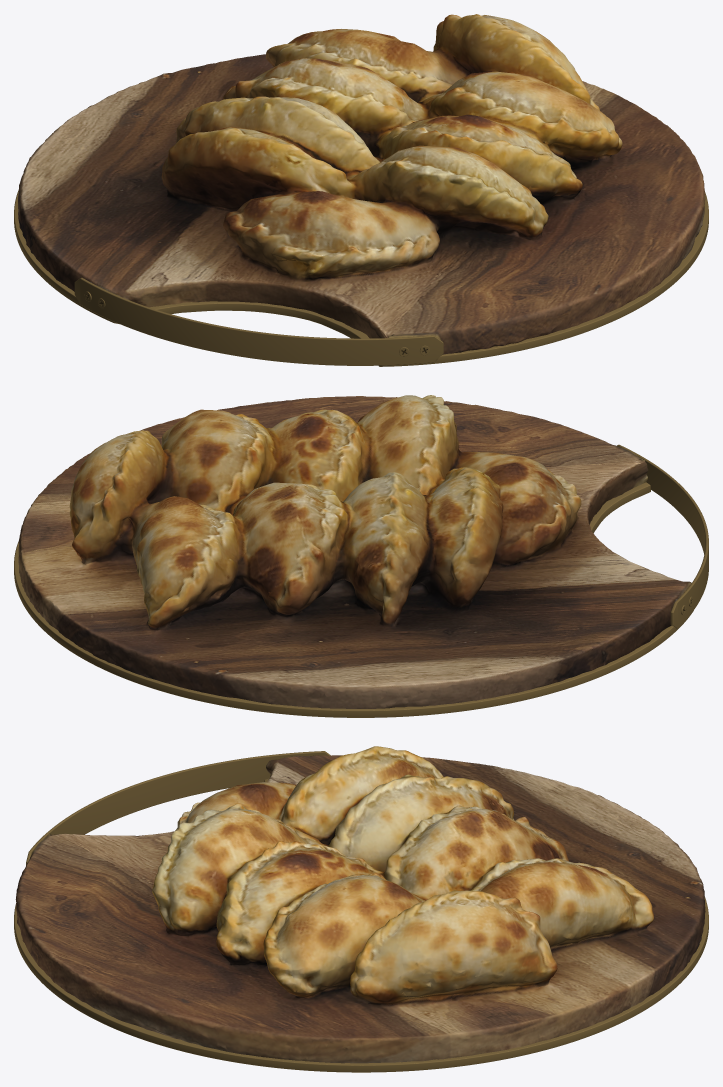
File: hhm_empanadas.glb
3 renders of one model, top to bottom at view 1: azimuth 30°, elevation 25°; view 2: azimuth 150°, elevation 25°; view 3: azimuth 270°, elevation 25°, orthographic.
Parts seen in each view (by area): view 1: Comida, Base_primitive0; view 2: Comida, Base_primitive0; view 3: Comida, Base_primitive0.
Boxes of the visible parts, left/top/right/bottom form: Comida: left=18, top=14, right=705, bottom=354; Base_primitive0: left=14, top=189, right=708, bottom=366; Comida: left=18, top=395, right=691, bottom=708; Base_primitive0: left=14, top=444, right=708, bottom=717; Comida: left=15, top=746, right=705, bottom=1063; Base_primitive0: left=14, top=751, right=708, bottom=1072.
Bounding box in the file's own units: 0.428 × 0.0824 × 0.428.
3 materials, 1 textured.
